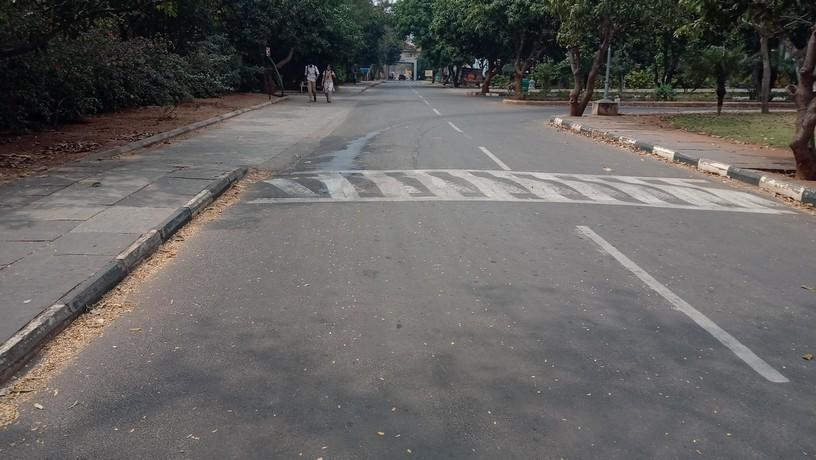speedbreaker: (231, 162, 806, 216)
